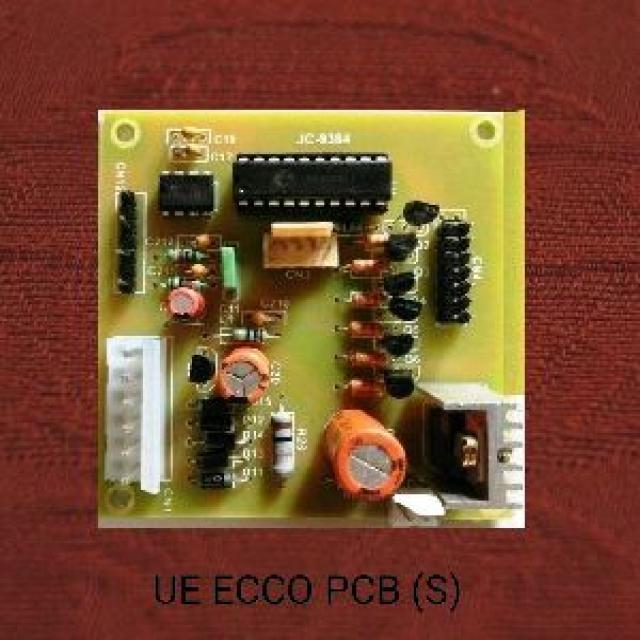pcb: (0, 0, 638, 638), (94, 106, 527, 530), (230, 150, 392, 218), (260, 220, 339, 270), (156, 169, 215, 218)
